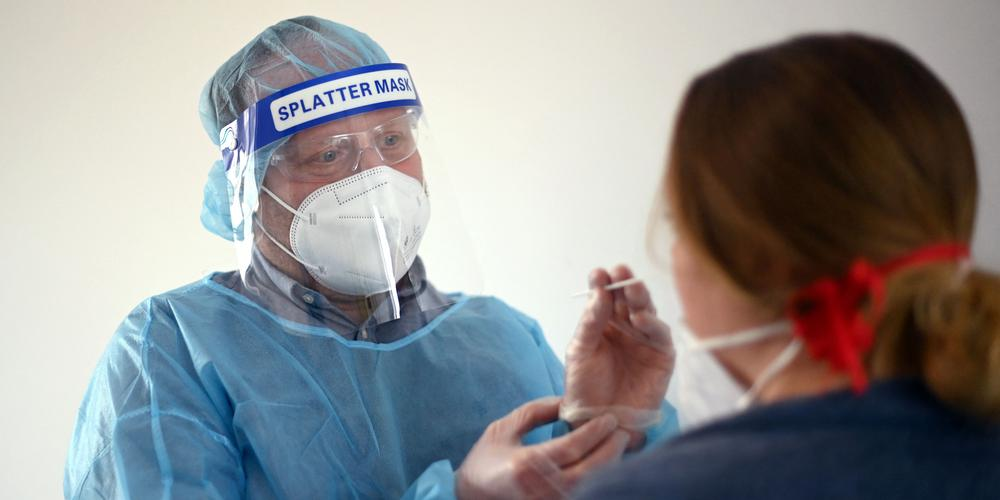with_mask: (290, 105, 434, 296)
